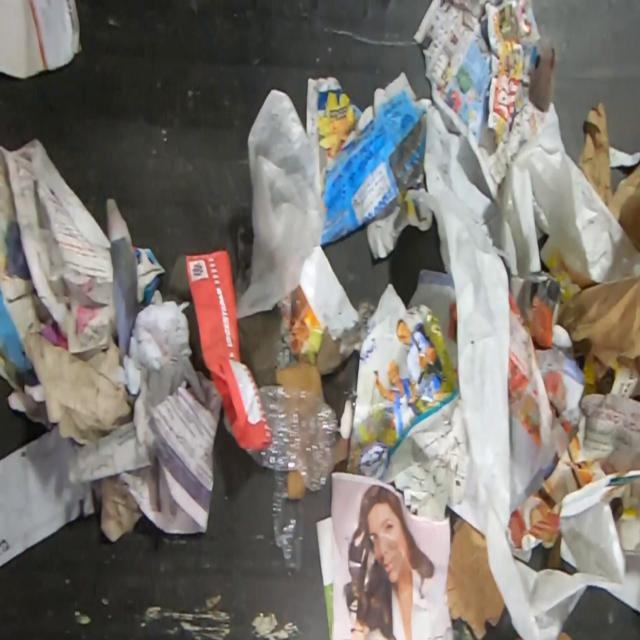cardboard: (276, 361, 325, 402), (288, 472, 306, 500)
rigid_plastic: (246, 384, 340, 492), (271, 471, 298, 560)
soft_plastic: (236, 88, 324, 320)
